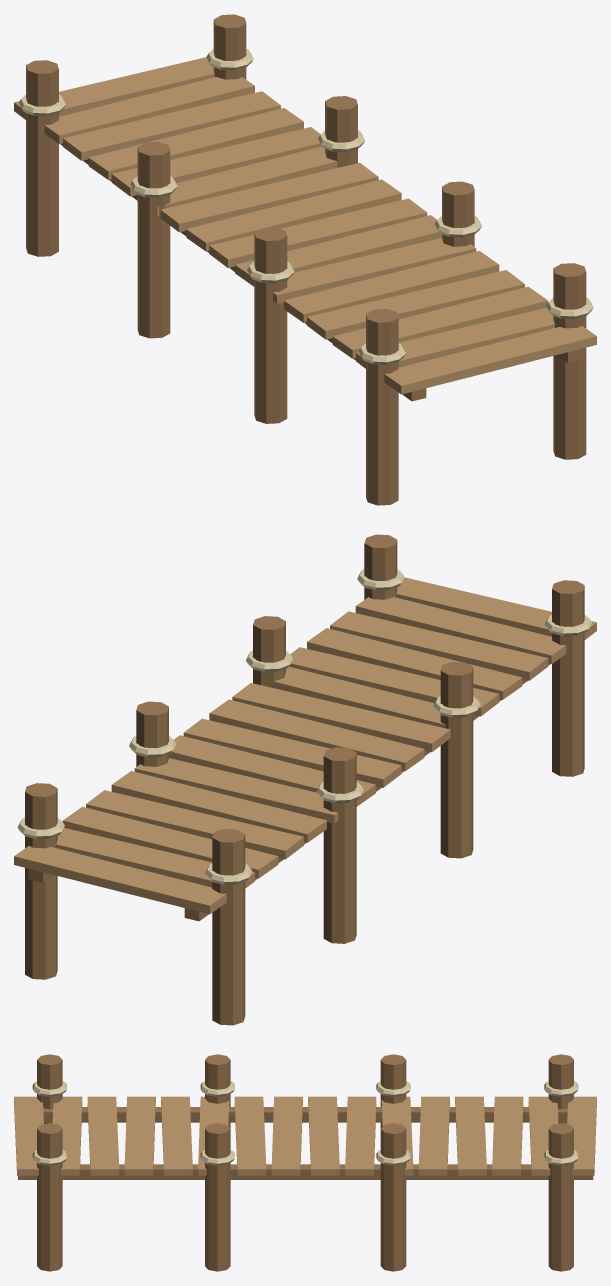
The model's file is WoodenDock.fbx.
The picture shows the model from 3 angles, top to bottom: view 1: azimuth 30°, elevation 25°; view 2: azimuth 150°, elevation 25°; view 3: azimuth 270°, elevation 25°; orthographic projection. The views are drawn at different scales.
Parts seen in each view (by area): view 1: WoodenDock; view 2: WoodenDock; view 3: WoodenDock.
Boxes of the visible parts, x1,y1,x2,y2 form: WoodenDock: (14, 14, 596, 505); WoodenDock: (14, 534, 596, 1025); WoodenDock: (14, 1054, 596, 1271).
Size of the model in its own units: 2.49 by 1.9 by 7.3.
